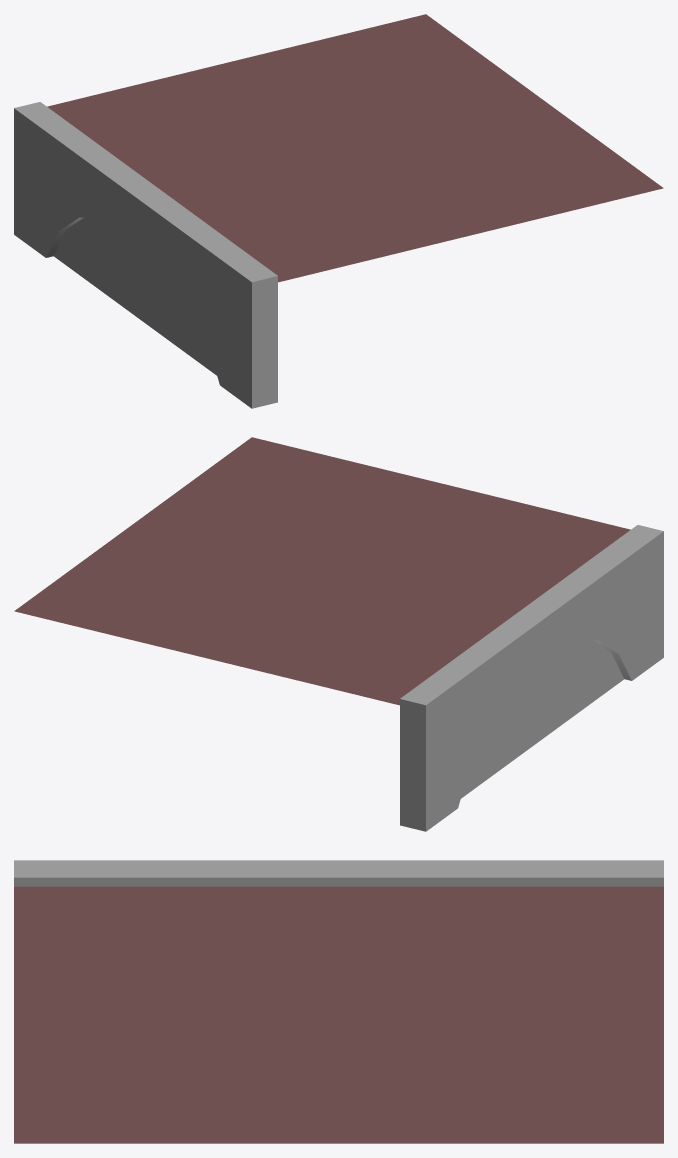
The model's file is celling_wall_02.fbx.
3 views of the same model, one above another, from view 1: azimuth 30°, elevation 25°; view 2: azimuth 150°, elevation 25°; view 3: azimuth 270°, elevation 25° (orthographic). The views are drawn at different scales.
Parts seen in each view (by area): view 1: polySurface4, ceilling_wall_03, building_pillar5, building_pillar12; view 2: polySurface4, ceilling_wall_03, building_pillar12, building_pillar5; view 3: polySurface4, ceilling_wall_03, building_pillar5, building_pillar12.
Boxes of the visible parts, x1,y1,x2,y2 form: polySurface4: [47, 14, 663, 282]; ceilling_wall_03: [29, 113, 262, 397]; building_pillar5: [236, 265, 277, 408]; building_pillar12: [14, 102, 54, 245]; polySurface4: [14, 437, 630, 705]; ceilling_wall_03: [415, 536, 648, 820]; building_pillar12: [400, 688, 441, 831]; building_pillar5: [623, 525, 663, 668]; polySurface4: [14, 886, 663, 1143]; ceilling_wall_03: [55, 860, 622, 886]; building_pillar5: [14, 860, 55, 886]; building_pillar12: [622, 860, 663, 886].
Size of the model in its own units: 1 by 0.2933 by 1.
